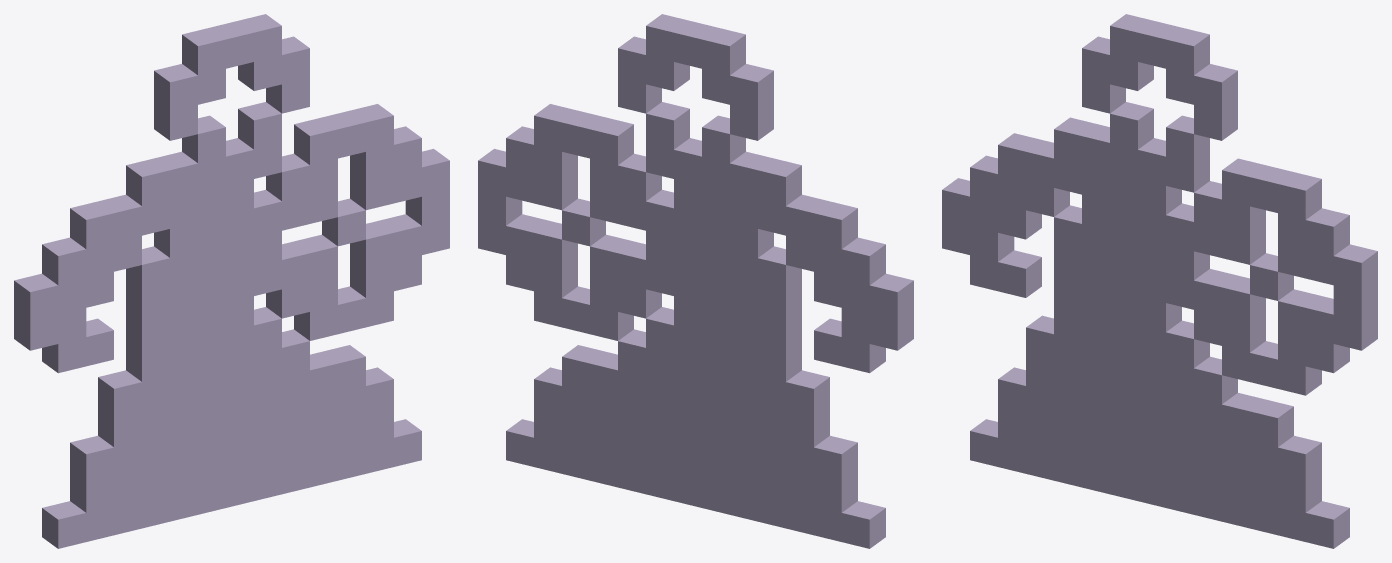
The model's file is Ghoul-Shielded-Grey.vox.obj.
3 views of the same model, side by side, from view 1: azimuth 30°, elevation 25°; view 2: azimuth 150°, elevation 25°; view 3: azimuth 330°, elevation 25° (orthographic).
Size of the model in its own units: 1.5 by 1.6 by 0.1.
1 material, 1 textured.
